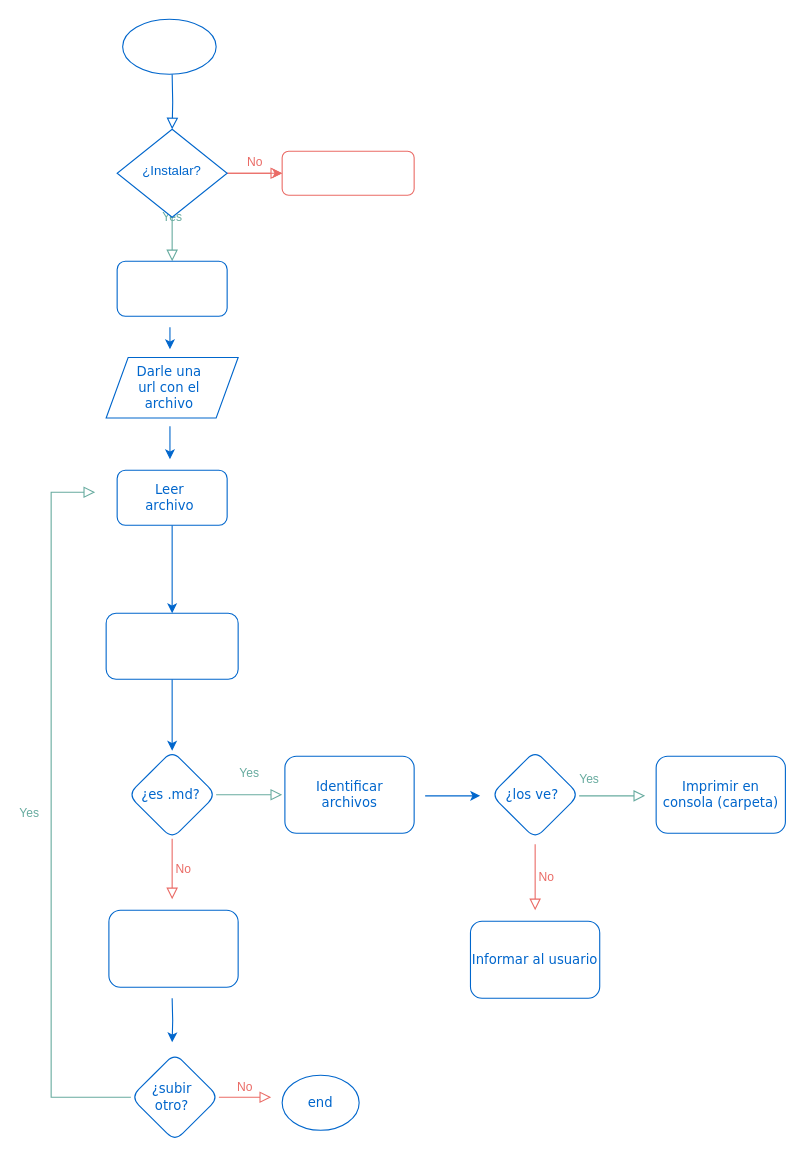
This 804x1161 diagram has some shape labels left out. The shapes that lost their labels are listed below. From the top down, each one's centre as x and y in pixels, then its label:
(169,46): Start
(347,172): Plug in lamp
(171,288): Instalar dependencias
(171,645): Identificar la extensión del archivo
(173,948): Informar al usuario que no es un archivo .md
